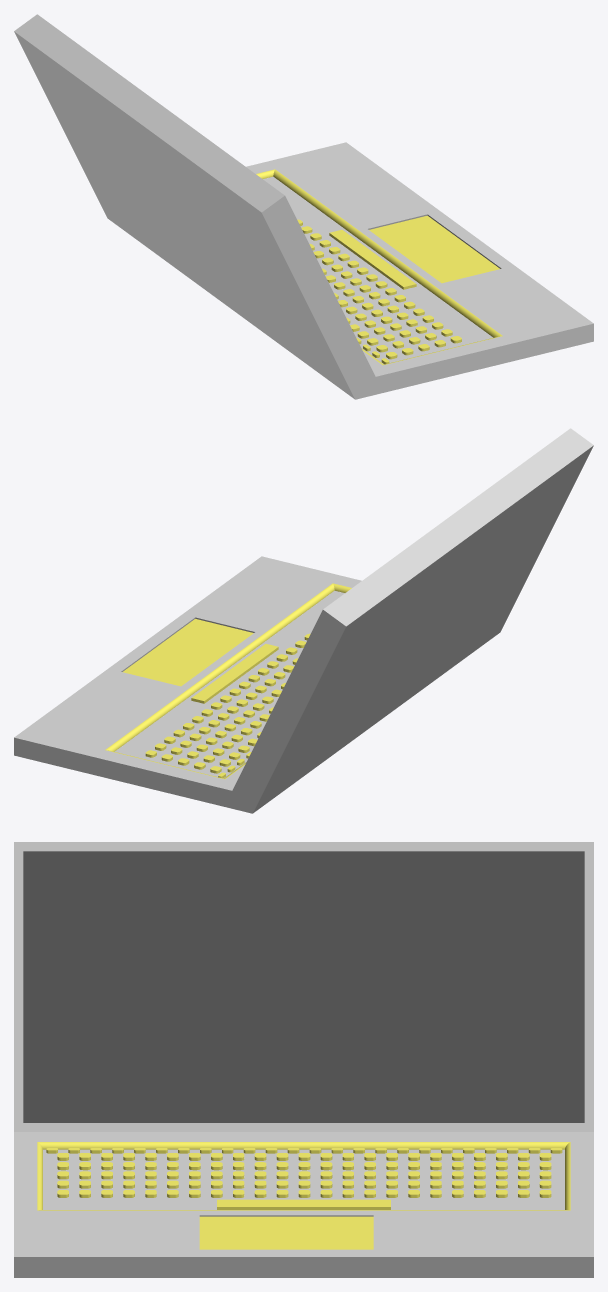
The picture shows the model from 3 angles, top to bottom: view 1: azimuth 30°, elevation 25°; view 2: azimuth 150°, elevation 25°; view 3: azimuth 270°, elevation 25°; orthographic projection. The views are drawn at different scales.
Parts seen in each view (by area): view 1: pc; view 2: pc; view 3: pc.
Part boxes in pixels (x1,y1,x2,y2): pc: (14,14,593,399); pc: (14,428,593,813); pc: (14,842,593,1277).
Size of the model in its own units: 0.0387 by 0.0247 by 0.05.
